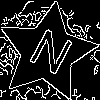N: (22, 27, 76, 84)
